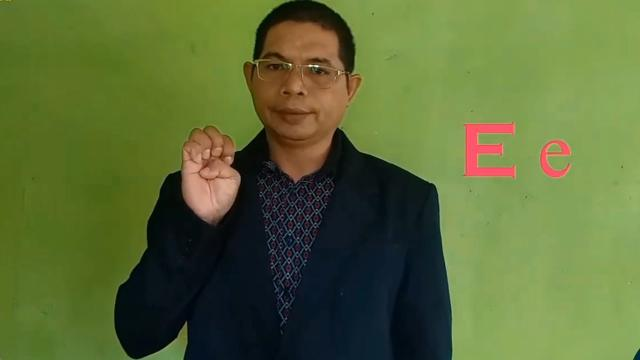E: (178, 122, 242, 226)
